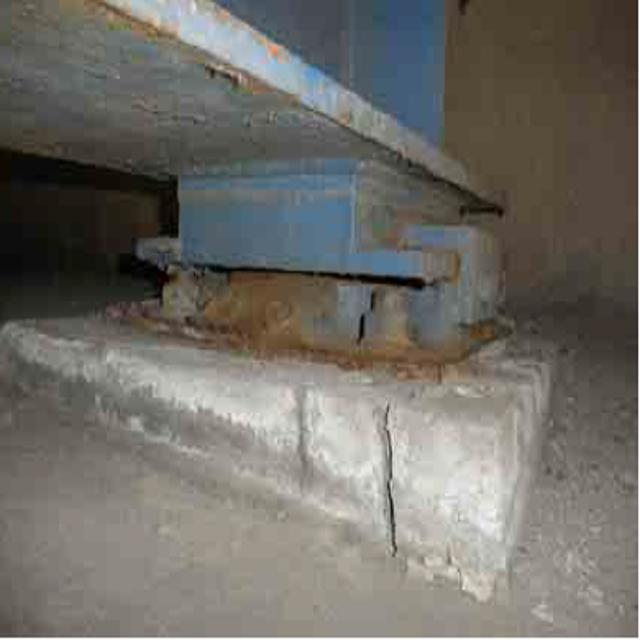corrosion: (144, 263, 473, 364)
